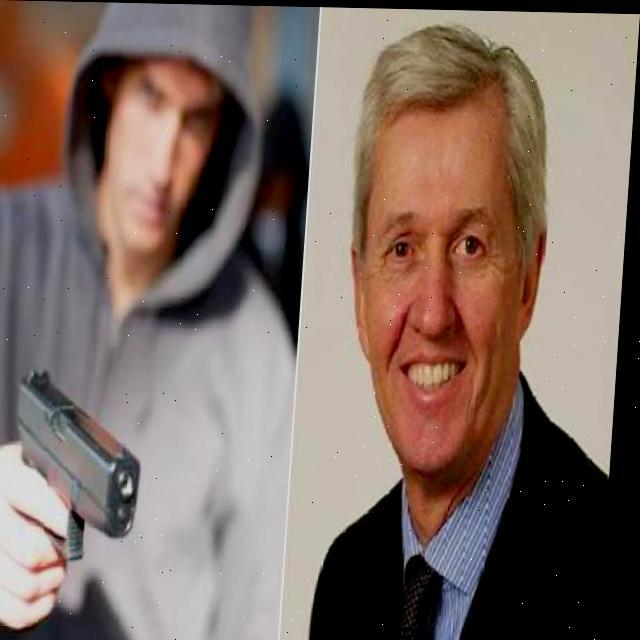gun: (11, 368, 153, 564)
